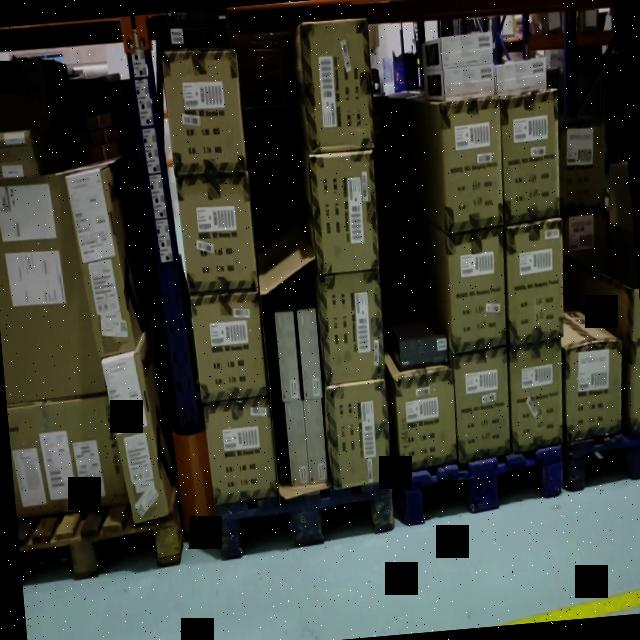box: (0, 176, 89, 397), (8, 398, 123, 516), (69, 173, 132, 366), (161, 46, 245, 176), (106, 346, 168, 518), (177, 173, 257, 292), (303, 19, 373, 153), (312, 148, 382, 276), (442, 98, 506, 232), (317, 267, 387, 385), (191, 292, 268, 398), (498, 93, 562, 220), (504, 222, 570, 342), (445, 230, 510, 349), (204, 399, 276, 503), (327, 380, 392, 487), (452, 348, 512, 459), (392, 372, 458, 470), (506, 344, 566, 448), (562, 343, 626, 438), (557, 122, 607, 206), (0, 56, 45, 128), (167, 9, 230, 50), (302, 396, 330, 484), (298, 312, 324, 402), (278, 314, 300, 401), (286, 399, 308, 484), (496, 60, 548, 94), (401, 333, 451, 367), (442, 33, 493, 65), (445, 66, 497, 97), (0, 148, 34, 178), (0, 129, 30, 148)
